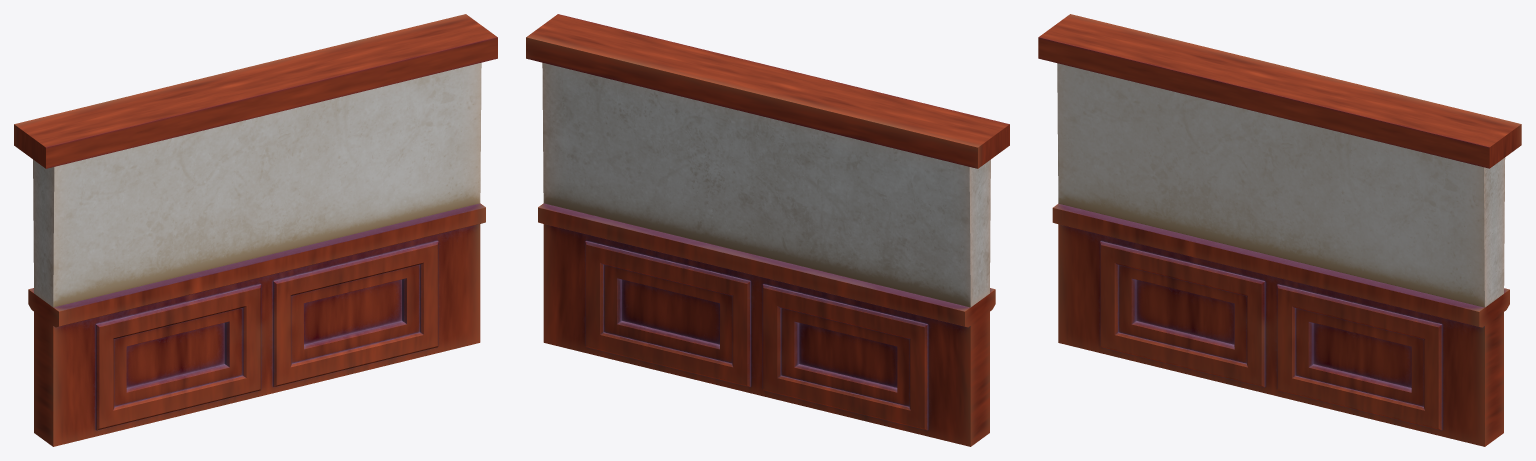
The model's file is wall_lvl2_marble_no_columne.fbx.
3 views of the same model, side by side, from view 1: azimuth 30°, elevation 25°; view 2: azimuth 150°, elevation 25°; view 3: azimuth 330°, elevation 25° (orthographic).
Parts seen in each view (by area): view 1: wall_lvl2_marble_no_columne; view 2: wall_lvl2_marble_no_columne; view 3: wall_lvl2_marble_no_columne.
Boxes of the visible parts, x1,y1,x2,y2 form: wall_lvl2_marble_no_columne: (14, 14, 497, 446); wall_lvl2_marble_no_columne: (526, 14, 1009, 446); wall_lvl2_marble_no_columne: (1038, 14, 1521, 446).
Size of the model in its own units: 1039 by 675 by 127.
